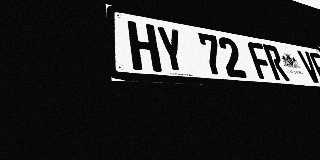2: (217, 36, 247, 78)
7: (196, 32, 228, 77)
F: (246, 41, 275, 80), (308, 52, 320, 84)
H: (127, 21, 162, 72)
R: (262, 44, 290, 81)
V: (297, 50, 320, 83)
Y: (155, 25, 189, 74)
